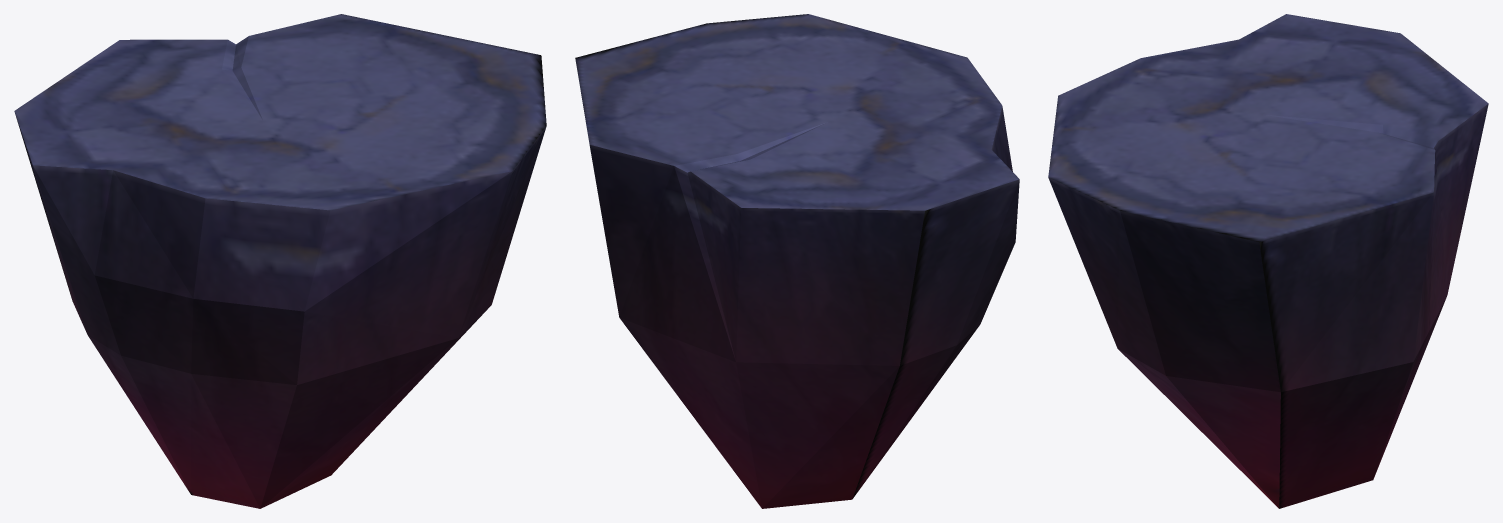
The model's file is Area08_11.fbx.
The picture shows the model from 3 angles, left to right: view 1: azimuth 30°, elevation 25°; view 2: azimuth 150°, elevation 25°; view 3: azimuth 270°, elevation 25°; orthographic projection. The views are drawn at different scales.
Visible parts, largest first — view 1: Area08_11; view 2: Area08_11; view 3: Area08_11.
Boxes of the visible parts, x1,y1,x2,y2 form: Area08_11: (14,14,546,508); Area08_11: (575,14,1019,508); Area08_11: (1048,14,1488,508).
Size of the model in its own units: 956 by 701 by 780.
